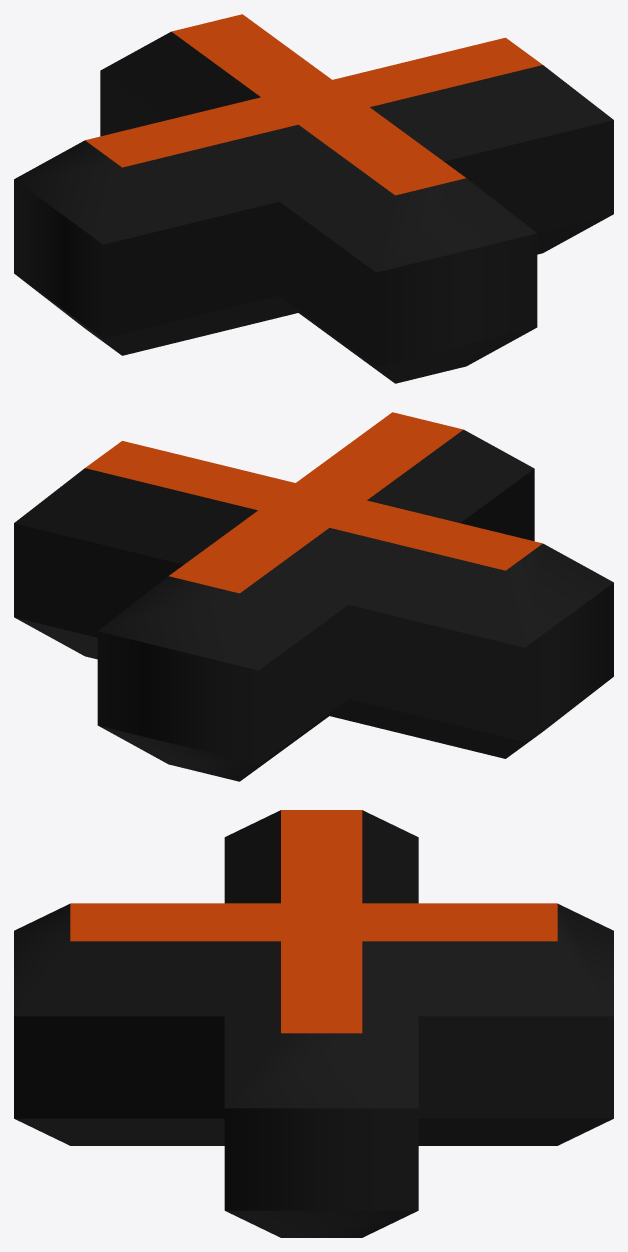
The model's file is Plus.fbx.
3 renders of one model, top to bottom at view 1: azimuth 30°, elevation 25°; view 2: azimuth 150°, elevation 25°; view 3: azimuth 270°, elevation 25°, orthographic. The views are drawn at different scales.
Visible parts, largest first — view 1: Text; view 2: Text; view 3: Text.
Part boxes in pixels (box(x1,y1,x2,y2)): Text: box(14, 14, 613, 383); Text: box(14, 412, 613, 781); Text: box(14, 810, 613, 1237).
Bounding box in the file's own units: 0.4542 × 0.16 × 0.425.
